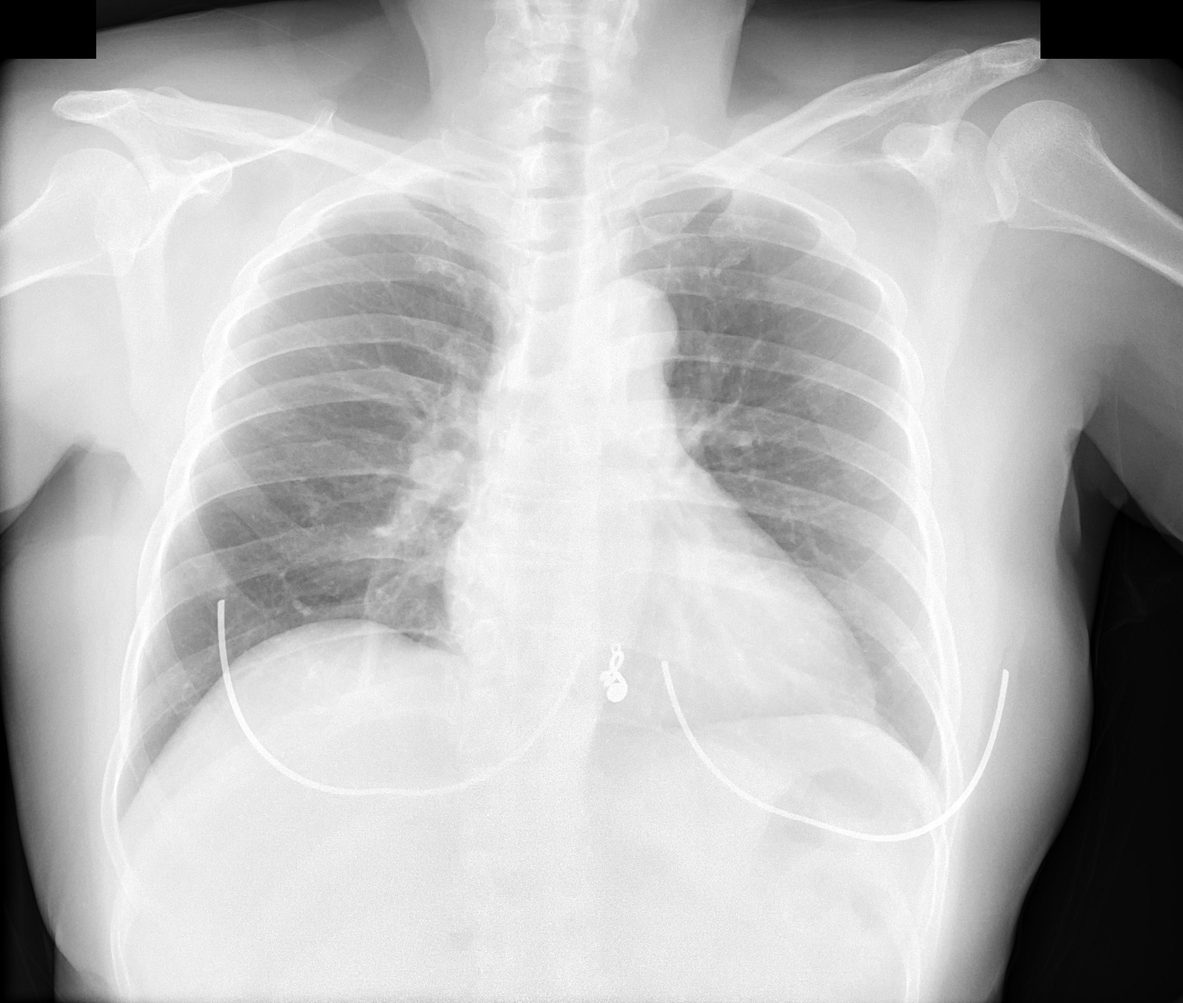Aortic enlargement: (577, 274, 679, 420)
Cardiomegaly: (441, 531, 879, 727)
